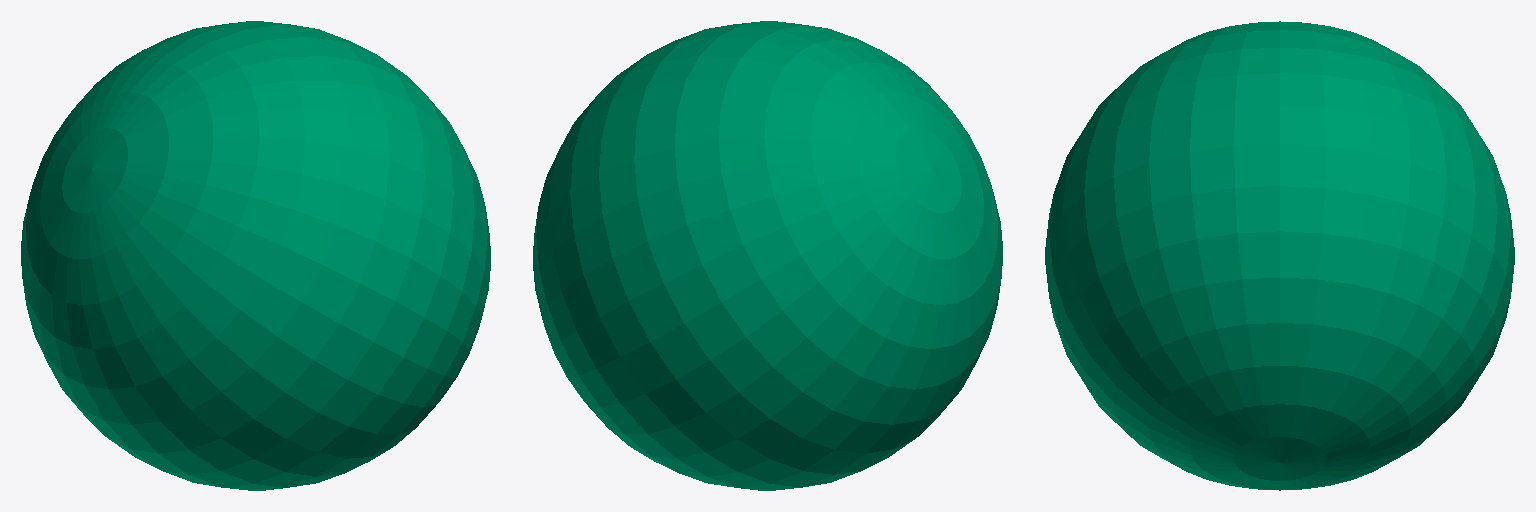
robot.urdf — fr3:
<?xml version="1.0" ?>
<!-- =================================================================================== -->
<!-- |    This document was autogenerated by xacro from robot/fr3_full_skin.xacro      | -->
<!-- |    EDITING THIS FILE BY HAND IS NOT RECOMMENDED                                 | -->
<!-- =================================================================================== -->
<!-- =================================================================================== -->
<!-- |    This document was autogenerated by xacro from fr3.urdf.xacro                 | -->
<!-- |    EDITING THIS FILE BY HAND IS NOT RECOMMENDED                                 | -->
<!-- =================================================================================== -->
<robot name="fr3">
  <!-- safety_distance: Minimum safety distance in [m] by which the collision volumes are expanded and which is enforced during robot motions -->
  <!-- arm_id: Namespace of the robot arm. Serves to differentiate between arms in case of multiple instances. -->
  <!-- joint_limits: description of the joint limits that comes from a YAML file. Example definition: ${xacro.load_yaml('$(find gentact_ros_tools)/robots/fr3/joint_limits.yaml')} -->
  <!-- kinematics: description of the kinematics that comes from a YAML file. Example definition: ${xacro.load_yaml('$(find gentact_ros_tools)/robots/fr3/kinematics.yaml')} -->
  <!-- inertials: description of the inertials that comes from a YAML file. Example definition: ${xacro.load_yaml('$(find gentact_ros_tools)/robots/fr3/inertials.yaml')} -->
  <!-- dynamics: description of the dynamics that comes from a YAML file. Example definition: ${xacro.load_yaml('$(find gentact_ros_tools)/robots/fr3/dynamics.yaml')} -->
  <link name="base">
      </link>
  <joint name="fr3_base_joint" type="fixed">
    <parent link="base"/>
    <child link="fr3_link0"/>
    <origin rpy="0 0 0" xyz="0 0 0"/>
  </joint>
  <!-- sub-link defining detailed meshes for collision with environment -->
  <link name="fr3_link0">
    <visual name="fr3_link0_visual">
      <geometry>
        <mesh filename="package://gentact_ros_tools/meshes/robot_arms/fr3/visual/link0.dae"/>
      </geometry>
    </visual>
    <collision name="fr3_link0_collision">
      <geometry>
        <mesh filename="package://gentact_ros_tools/meshes/robot_arms/fr3/collision/link0.stl"/>
      </geometry>
    </collision>
    <inertial>
      <origin rpy="0 0 0" xyz="-0.0172 0.0004 0.0745"/>
      <mass value="2.3966"/>
      <inertia ixx="0.009" ixy="0.0" ixz="0.002" iyy="0.0115" iyz="0.0" izz="0.0085"/>
    </inertial>
  </link>
  <!-- sub-link defining detailed meshes for collision with environment -->
  <link name="fr3_link1">
    <visual name="fr3_link1_visual">
      <geometry>
        <mesh filename="package://gentact_ros_tools/meshes/robot_arms/fr3/visual/link1.dae"/>
      </geometry>
    </visual>
    <collision name="fr3_link1_collision">
      <geometry>
        <mesh filename="package://gentact_ros_tools/meshes/robot_arms/fr3/collision/link1.stl"/>
      </geometry>
    </collision>
    <inertial>
      <origin rpy="0 0 0" xyz="0.0000004128 -0.0181251324 -0.0386035970"/>
      <mass value="2.9274653454"/>
      <inertia ixx="0.023927316485107913" ixy="1.3317903455714081e-05" ixz="-0.00011404774918616684" iyy="0.0224821613275756" iyz="-0.0019950320628240115" izz="0.006350098258530016"/>
    </inertial>
  </link>
  <joint name="fr3_joint1" type="revolute">
    <origin rpy="0 0 0" xyz="0 0 0.333"/>
    <parent link="fr3_link0"/>
    <child link="fr3_link1"/>
    <axis xyz="0 0 1"/>
    <limit effort="87.0" lower="-2.7437" upper="2.7437" velocity="2.62"/>
    <safety_controller k_position="100.0" k_velocity="40.0" soft_lower_limit="-2.7437" soft_upper_limit="2.7437"/>
    <dynamics D="1" K="7000" damping="0.003" friction="0.2" mu_coulomb="0" mu_viscous="16"/>
  </joint>
  <!-- sub-link defining detailed meshes for collision with environment -->
  <link name="fr3_link2">
    <visual name="fr3_link2_visual">
      <geometry>
        <mesh filename="package://gentact_ros_tools/meshes/robot_arms/fr3/visual/link2.dae"/>
      </geometry>
    </visual>
    <collision name="fr3_link2_collision">
      <geometry>
        <mesh filename="package://gentact_ros_tools/meshes/robot_arms/fr3/collision/link2.stl"/>
      </geometry>
    </collision>
    <inertial>
      <origin rpy="0 0 0" xyz="0.0031828864 -0.0743221644 0.0088146084"/>
      <mass value="2.9355370338"/>
      <inertia ixx="0.041938946257609425" ixy="0.00020257331521090626" ixz="0.004077784227179924" iyy="0.02514514885014724" iyz="-0.0042252158006570156" izz="0.06170214472888839"/>
    </inertial>
  </link>
  <joint name="fr3_joint2" type="revolute">
    <origin rpy="-1.570796326794897 0 0" xyz="0 0 0"/>
    <parent link="fr3_link1"/>
    <child link="fr3_link2"/>
    <axis xyz="0 0 1"/>
    <limit effort="87.0" lower="-1.7837" upper="1.7837" velocity="2.62"/>
    <safety_controller k_position="100.0" k_velocity="40.0" soft_lower_limit="-1.7837" soft_upper_limit="1.7837"/>
    <dynamics D="1" K="7000" damping="0.003" friction="0.2" mu_coulomb="0" mu_viscous="16"/>
  </joint>
  <!-- sub-link defining detailed meshes for collision with environment -->
  <link name="fr3_link3">
    <visual name="fr3_link3_visual">
      <geometry>
        <mesh filename="package://gentact_ros_tools/meshes/robot_arms/fr3/visual/link3.dae"/>
      </geometry>
    </visual>
    <collision name="fr3_link3_collision">
      <geometry>
        <mesh filename="package://gentact_ros_tools/meshes/robot_arms/fr3/collision/link3.stl"/>
      </geometry>
    </collision>
    <inertial>
      <origin rpy="0 0 0" xyz="0.0407015686 -0.0048200565 -0.0289730823"/>
      <mass value="2.2449013699"/>
      <inertia ixx="0.02410142547240885" ixy="0.002404694559042109" ixz="-0.002856269270114313" iyy="0.01974053266708178" iyz="-0.002104212683891874" izz="0.019044494482244823"/>
    </inertial>
  </link>
  <joint name="fr3_joint3" type="revolute">
    <origin rpy="1.570796326794897 0 0" xyz="0 -0.316 0"/>
    <parent link="fr3_link2"/>
    <child link="fr3_link3"/>
    <axis xyz="0 0 1"/>
    <limit effort="87.0" lower="-2.9007" upper="2.9007" velocity="2.62"/>
    <safety_controller k_position="100.0" k_velocity="40.0" soft_lower_limit="-2.9007" soft_upper_limit="2.9007"/>
    <dynamics D="1" K="7000" damping="0.003" friction="0.2" mu_coulomb="0" mu_viscous="16"/>
  </joint>
  <!-- sub-link defining detailed meshes for collision with environment -->
  <link name="fr3_link4">
    <visual name="fr3_link4_visual">
      <geometry>
        <mesh filename="package://gentact_ros_tools/meshes/robot_arms/fr3/visual/link4.dae"/>
      </geometry>
    </visual>
    <collision name="fr3_link4_collision">
      <geometry>
        <mesh filename="package://gentact_ros_tools/meshes/robot_arms/fr3/collision/link4.stl"/>
      </geometry>
    </collision>
    <inertial>
      <origin rpy="0 0 0" xyz="-0.0459100965 0.0630492960 -0.0085187868"/>
      <mass value="2.6155955791"/>
      <inertia ixx="0.03452998321913202" ixy="0.01322552265982813" ixz="0.01015142998484113" iyy="0.028881621933049058" iyz="-0.0009762833870704552" izz="0.04125471171146641"/>
    </inertial>
  </link>
  <joint name="fr3_joint4" type="revolute">
    <origin rpy="1.570796326794897 0 0" xyz="0.0825 0 0"/>
    <parent link="fr3_link3"/>
    <child link="fr3_link4"/>
    <axis xyz="0 0 1"/>
    <limit effort="87.0" lower="-3.0421" upper="-0.1518" velocity="2.62"/>
    <safety_controller k_position="100.0" k_velocity="40.0" soft_lower_limit="-3.0421" soft_upper_limit="-0.1518"/>
    <dynamics D="1" K="7000" damping="0.003" friction="0.2" mu_coulomb="0" mu_viscous="16"/>
  </joint>
  <!-- sub-link defining detailed meshes for collision with environment -->
  <link name="fr3_link5">
    <visual name="fr3_link5_visual">
      <geometry>
        <mesh filename="package://gentact_ros_tools/meshes/robot_arms/fr3/visual/link5.dae"/>
      </geometry>
    </visual>
    <collision name="fr3_link5_collision">
      <geometry>
        <mesh filename="package://gentact_ros_tools/meshes/robot_arms/fr3/collision/link5.stl"/>
      </geometry>
    </collision>
    <inertial>
      <origin rpy="0 0 0" xyz="-0.0016039605 0.0292536262 -0.0972965990"/>
      <mass value="2.3271207594"/>
      <inertia ixx="0.051610278463662895" ixy="-0.005715173387783472" ixz="-0.0035673167625872135" iyy="0.04787729713371481" iyz="0.010673985108535986" izz="0.016423625579357254"/>
    </inertial>
  </link>
  <joint name="fr3_joint5" type="revolute">
    <origin rpy="-1.570796326794897 0 0" xyz="-0.0825 0.384 0"/>
    <parent link="fr3_link4"/>
    <child link="fr3_link5"/>
    <axis xyz="0 0 1"/>
    <limit effort="12.0" lower="-2.8065" upper="2.8065" velocity="5.26"/>
    <safety_controller k_position="100.0" k_velocity="40.0" soft_lower_limit="-2.8065" soft_upper_limit="2.8065"/>
    <dynamics D="1" K="7000" damping="0.003" friction="0.2" mu_coulomb="0" mu_viscous="16"/>
  </joint>
  <!-- sub-link defining detailed meshes for collision with environment -->
  <link name="fr3_link6">
    <visual name="fr3_link6_visual">
      <geometry>
        <mesh filename="package://gentact_ros_tools/meshes/robot_arms/fr3/visual/link6.dae"/>
      </geometry>
    </visual>
    <collision name="fr3_link6_collision">
      <geometry>
        <mesh filename="package://gentact_ros_tools/meshes/robot_arms/fr3/collision/link6.stl"/>
      </geometry>
    </collision>
    <inertial>
      <origin rpy="0 0 0" xyz="0.0597131221 -0.0410294666 -0.0101692726"/>
      <mass value="1.8170376524"/>
      <inertia ixx="0.005412333594383447" ixy="0.006193456360285834" ixz="0.0014219289306117652" iyy="0.014058329545509979" iyz="-0.0013140753741120031" izz="0.016080817924212554"/>
    </inertial>
  </link>
  <joint name="fr3_joint6" type="revolute">
    <origin rpy="1.570796326794897 0 0" xyz="0 0 0"/>
    <parent link="fr3_link5"/>
    <child link="fr3_link6"/>
    <axis xyz="0 0 1"/>
    <limit effort="12.0" lower="0.5445" upper="4.5169" velocity="4.18"/>
    <safety_controller k_position="100.0" k_velocity="40.0" soft_lower_limit="0.5445" soft_upper_limit="4.5169"/>
    <dynamics D="1" K="7000" damping="0.003" friction="0.2" mu_coulomb="0" mu_viscous="16"/>
  </joint>
  <!-- sub-link defining detailed meshes for collision with environment -->
  <link name="fr3_link7">
    <visual name="fr3_link7_visual">
      <geometry>
        <mesh filename="package://gentact_ros_tools/meshes/robot_arms/fr3/visual/link7.dae"/>
      </geometry>
    </visual>
    <collision name="fr3_link7_collision">
      <geometry>
        <mesh filename="package://gentact_ros_tools/meshes/robot_arms/fr3/collision/link7.stl"/>
      </geometry>
    </collision>
    <inertial>
      <origin rpy="0 0 0" xyz="0.0045225817 0.0086261921 -0.0161633251"/>
      <mass value="0.6271432862"/>
      <inertia ixx="0.00021092389150104718" ixy="-2.433299114461931e-05" ixz="4.564480393778983e-05" iyy="0.00017718568002411474" iyz="8.744070223226438e-05" izz="5.993190599659971e-05"/>
    </inertial>
  </link>
  <joint name="fr3_joint7" type="revolute">
    <origin rpy="1.570796326794897 0 0" xyz="0.088 0 0"/>
    <parent link="fr3_link6"/>
    <child link="fr3_link7"/>
    <axis xyz="0 0 1"/>
    <limit effort="12.0" lower="-3.0159" upper="3.0159" velocity="5.26"/>
    <safety_controller k_position="100.0" k_velocity="40.0" soft_lower_limit="-3.0159" soft_upper_limit="3.0159"/>
    <dynamics D="1" K="7000" damping="0.003" friction="0.2" mu_coulomb="0" mu_viscous="16"/>
  </joint>
  <link name="end_effector">
    <visual>
      <origin rpy="0 0 0" xyz="0 0 0"/>
      <geometry>
        <mesh filename="package://gentact_ros_tools/meshes/end_effectors/large_plate_ee.stl" scale="1 1 1"/>
      </geometry>
    </visual>
  </link>
  <joint name="end_effector_joint" type="fixed">
    <origin rpy="0 0 0.785398" xyz="0 0 0.107"/>
    <parent link="fr3_link7"/>
    <child link="end_effector"/>
  </joint>
  <link name="end_effector_tip">
    <visual>
      <origin rpy="0 0 0" xyz="0 0 0"/>
      <geometry>
        <sphere radius="0.005"/>
      </geometry>
    </visual>
  </link>
  <joint name="end_effector_tip_joint" type="fixed">
    <origin rpy="0 0 0" xyz="0 0 0.051"/>
    <parent link="end_effector"/>
    <child link="end_effector_tip"/>
  </joint>
</robot>

--- Facts derived from the render (not from the file) ---
3 views of the same robot in one strip: view 1: azimuth 30°, elevation 25°; view 2: azimuth 150°, elevation 25°; view 3: azimuth 270°, elevation 25° (orthographic).
Model fr3 with 11 links and 10 joints (7 revolute, 3 fixed), rooted at base, posed joints at zero except 2 at the middle of their limits (fr3_joint4 = -1.6, fr3_joint6 = 2.53).
Visible links, largest first — view 1: end_effector_tip; view 2: end_effector_tip; view 3: end_effector_tip.
Boxes of the visible links, x1,y1,x2,y2 form: end_effector_tip: [21, 21, 490, 490]; end_effector_tip: [533, 21, 1002, 490]; end_effector_tip: [1045, 21, 1514, 490].
Bounding box of the posed robot: 0.01 × 0.01 × 0.01 m (x, y, z).
0 mesh visuals loaded from 9 distinct referenced files (none loaded); not drawn: 9 (reference not matched to a file when rendering).